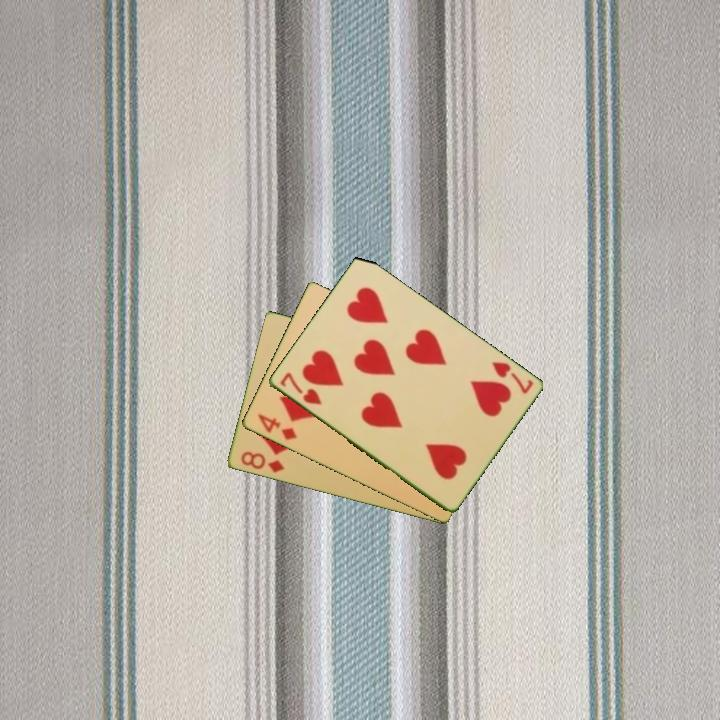4d: (254, 410, 300, 443)
7h: (276, 369, 324, 408), (488, 358, 536, 397)
8d: (237, 448, 287, 476)
